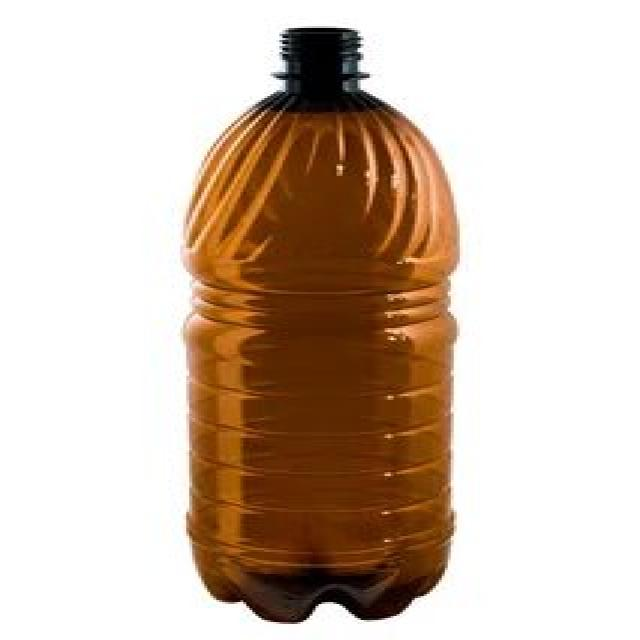brown: (175, 26, 461, 622)
